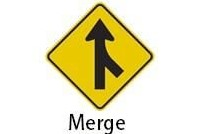Traffic signal: (47, 2, 154, 110)
